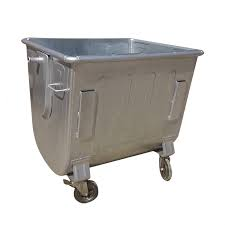trash_container: (16, 27, 205, 198)
